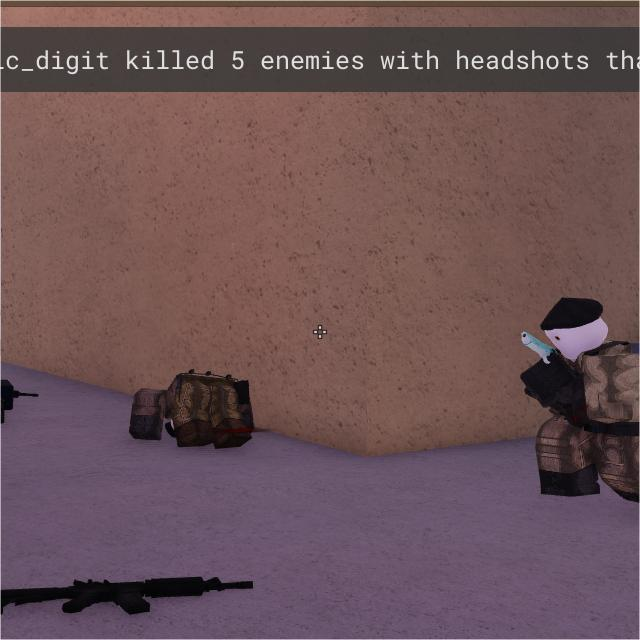Head: (542, 296, 608, 361)
Player: (520, 296, 640, 503)
